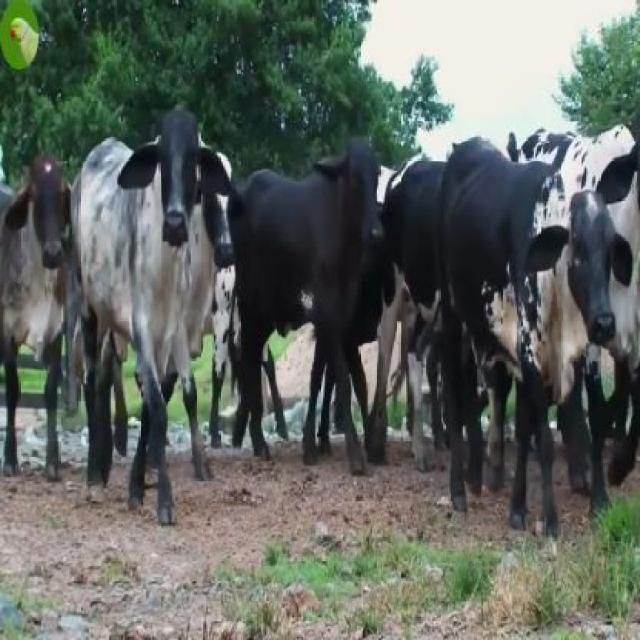Cow: (71, 111, 234, 549), (237, 137, 385, 469)
